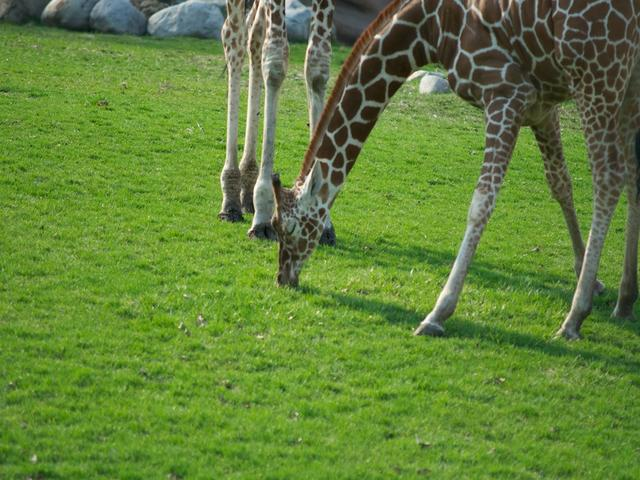giraffe: (201, 1, 640, 307)
